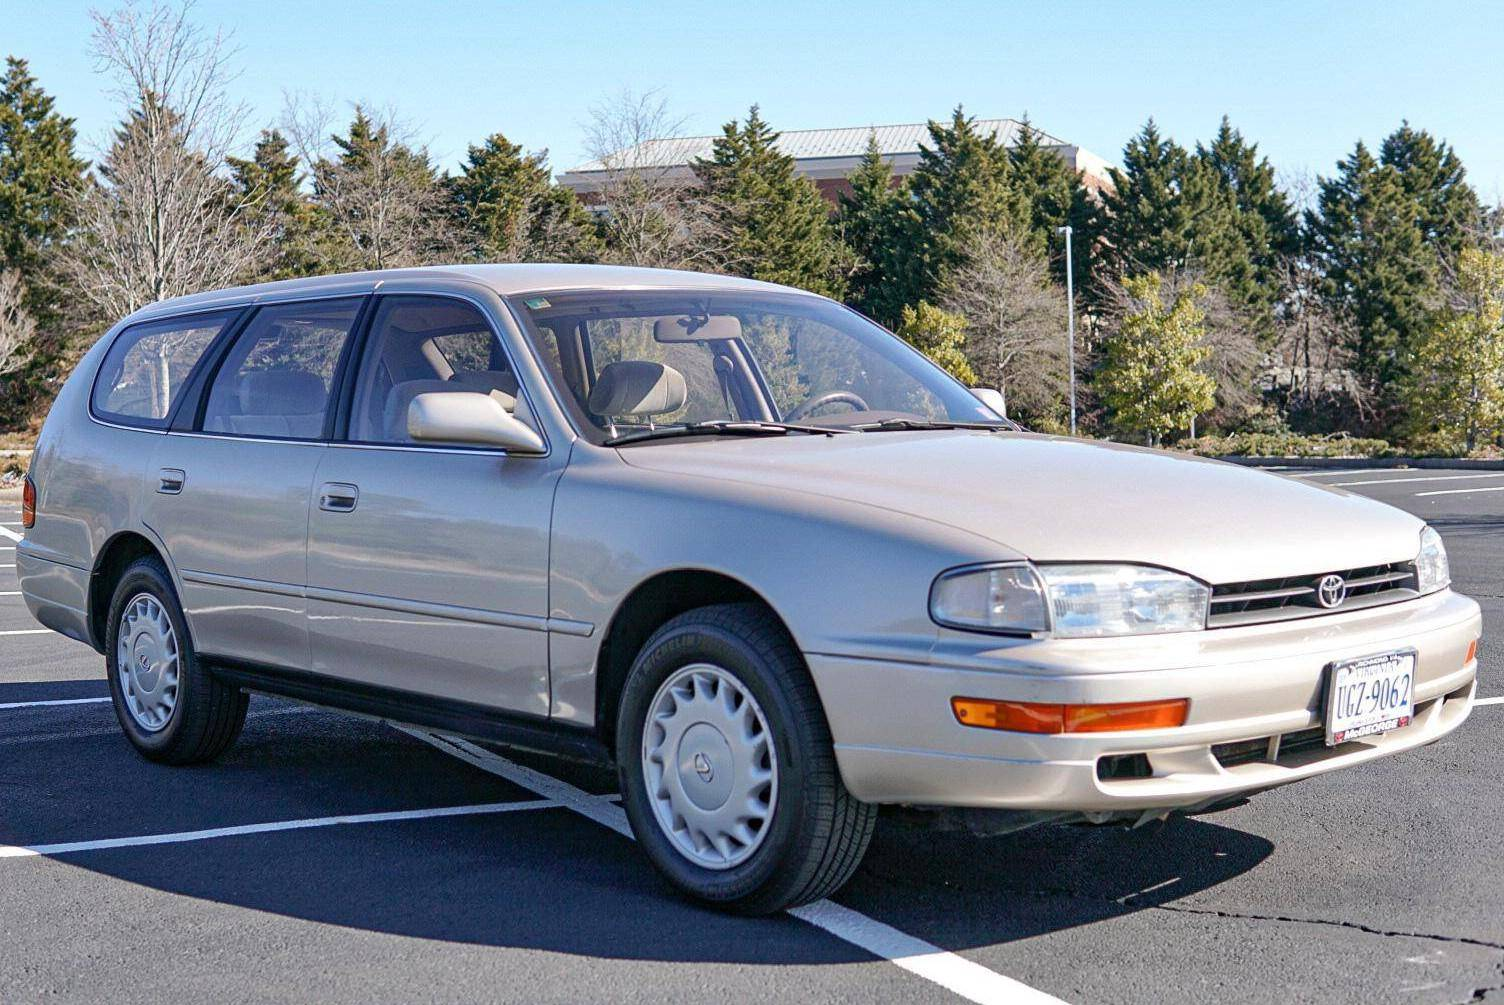car: (11, 256, 1491, 923)
